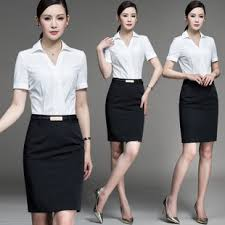F_shirt: (9, 42, 90, 117), (94, 27, 156, 80), (168, 21, 219, 81)
F_tailored skirt: (20, 109, 88, 217), (101, 75, 149, 148), (174, 73, 222, 146)
